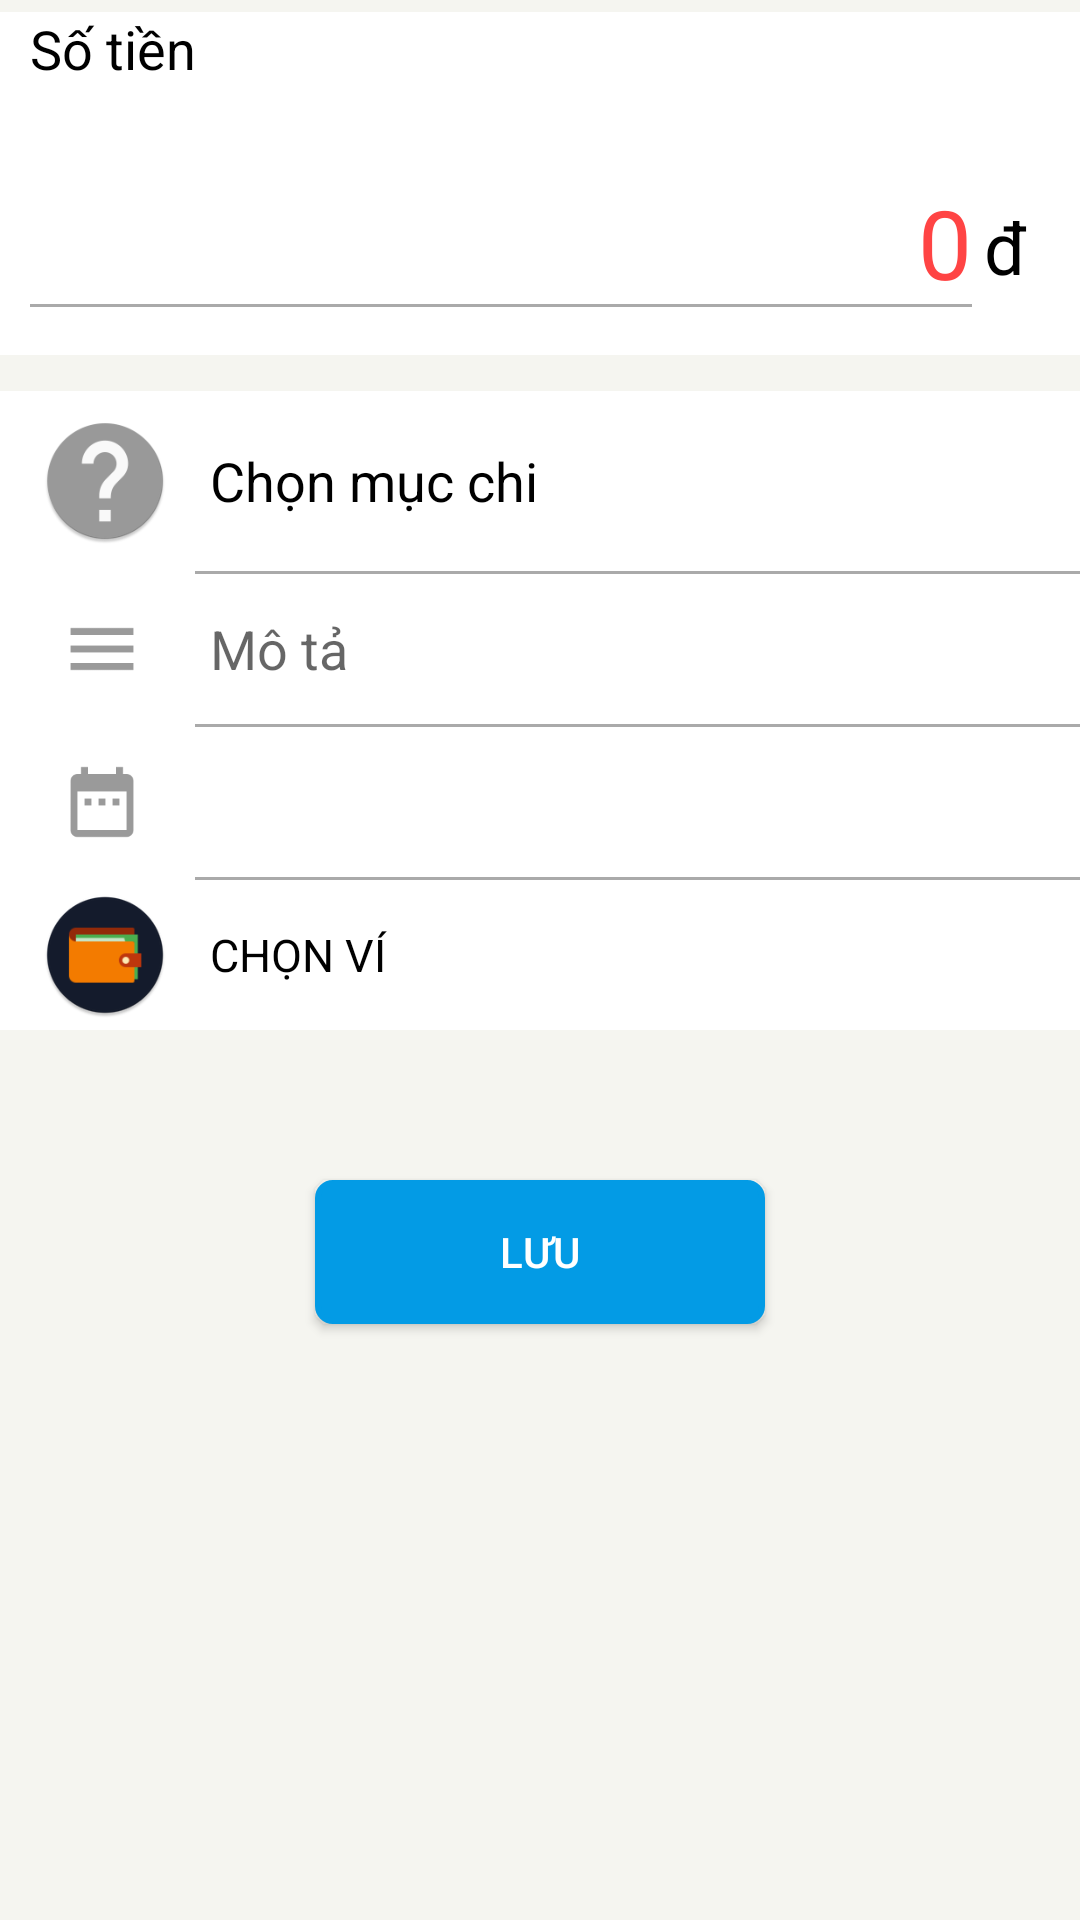

Icon bounding boxes for this 1080px×1920px phone screenshot, format (x1=x1, y1=y1, x2=x2, y2=y2):
chamhoi: (x1=47, y1=423, x2=163, y2=542)
lich: (x1=70, y1=767, x2=134, y2=837)
mota: (x1=70, y1=628, x2=134, y2=670)
